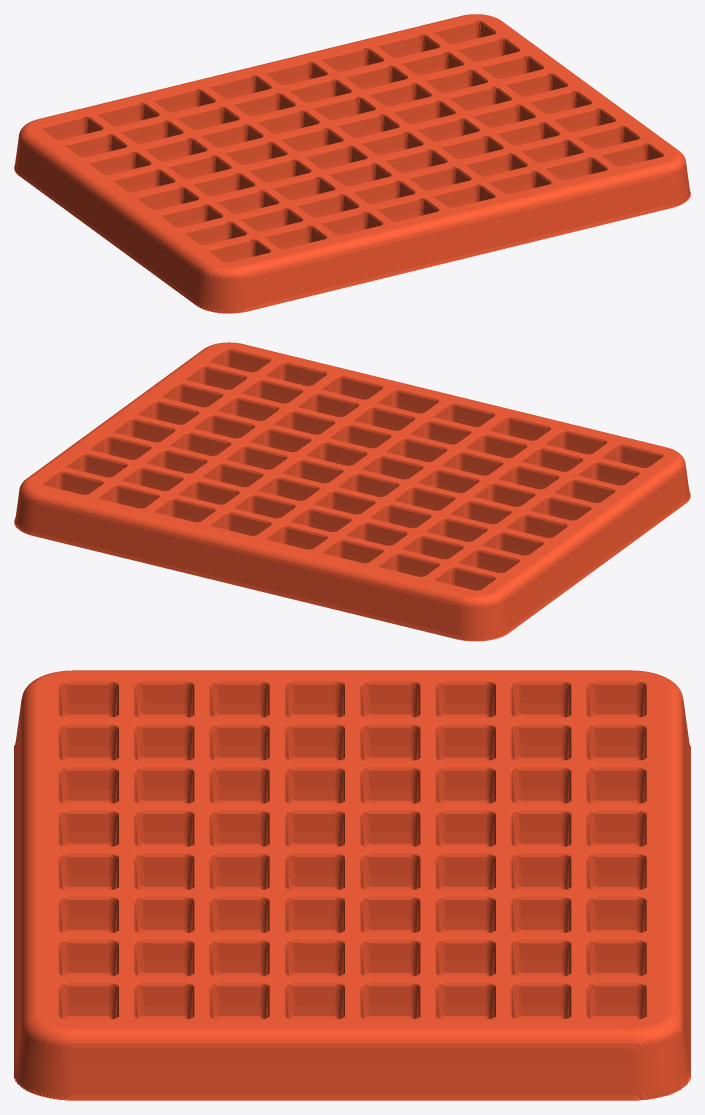
The model's file is mold.glb.
3 views of the same model, one above another, from view 1: azimuth 30°, elevation 25°; view 2: azimuth 150°, elevation 25°; view 3: azimuth 270°, elevation 25° (orthographic). The views are drawn at different scales.
Visible parts, largest first — view 1: geometry_0; view 2: geometry_0; view 3: geometry_0.
Boxes of the visible parts, left/top/right/bottom form: geometry_0: left=14, top=14, right=690, bottom=313; geometry_0: left=14, top=342, right=690, bottom=641; geometry_0: left=14, top=670, right=690, bottom=1100.
Size of the model in its own units: 0.1355 by 0.0105 by 0.1031.
